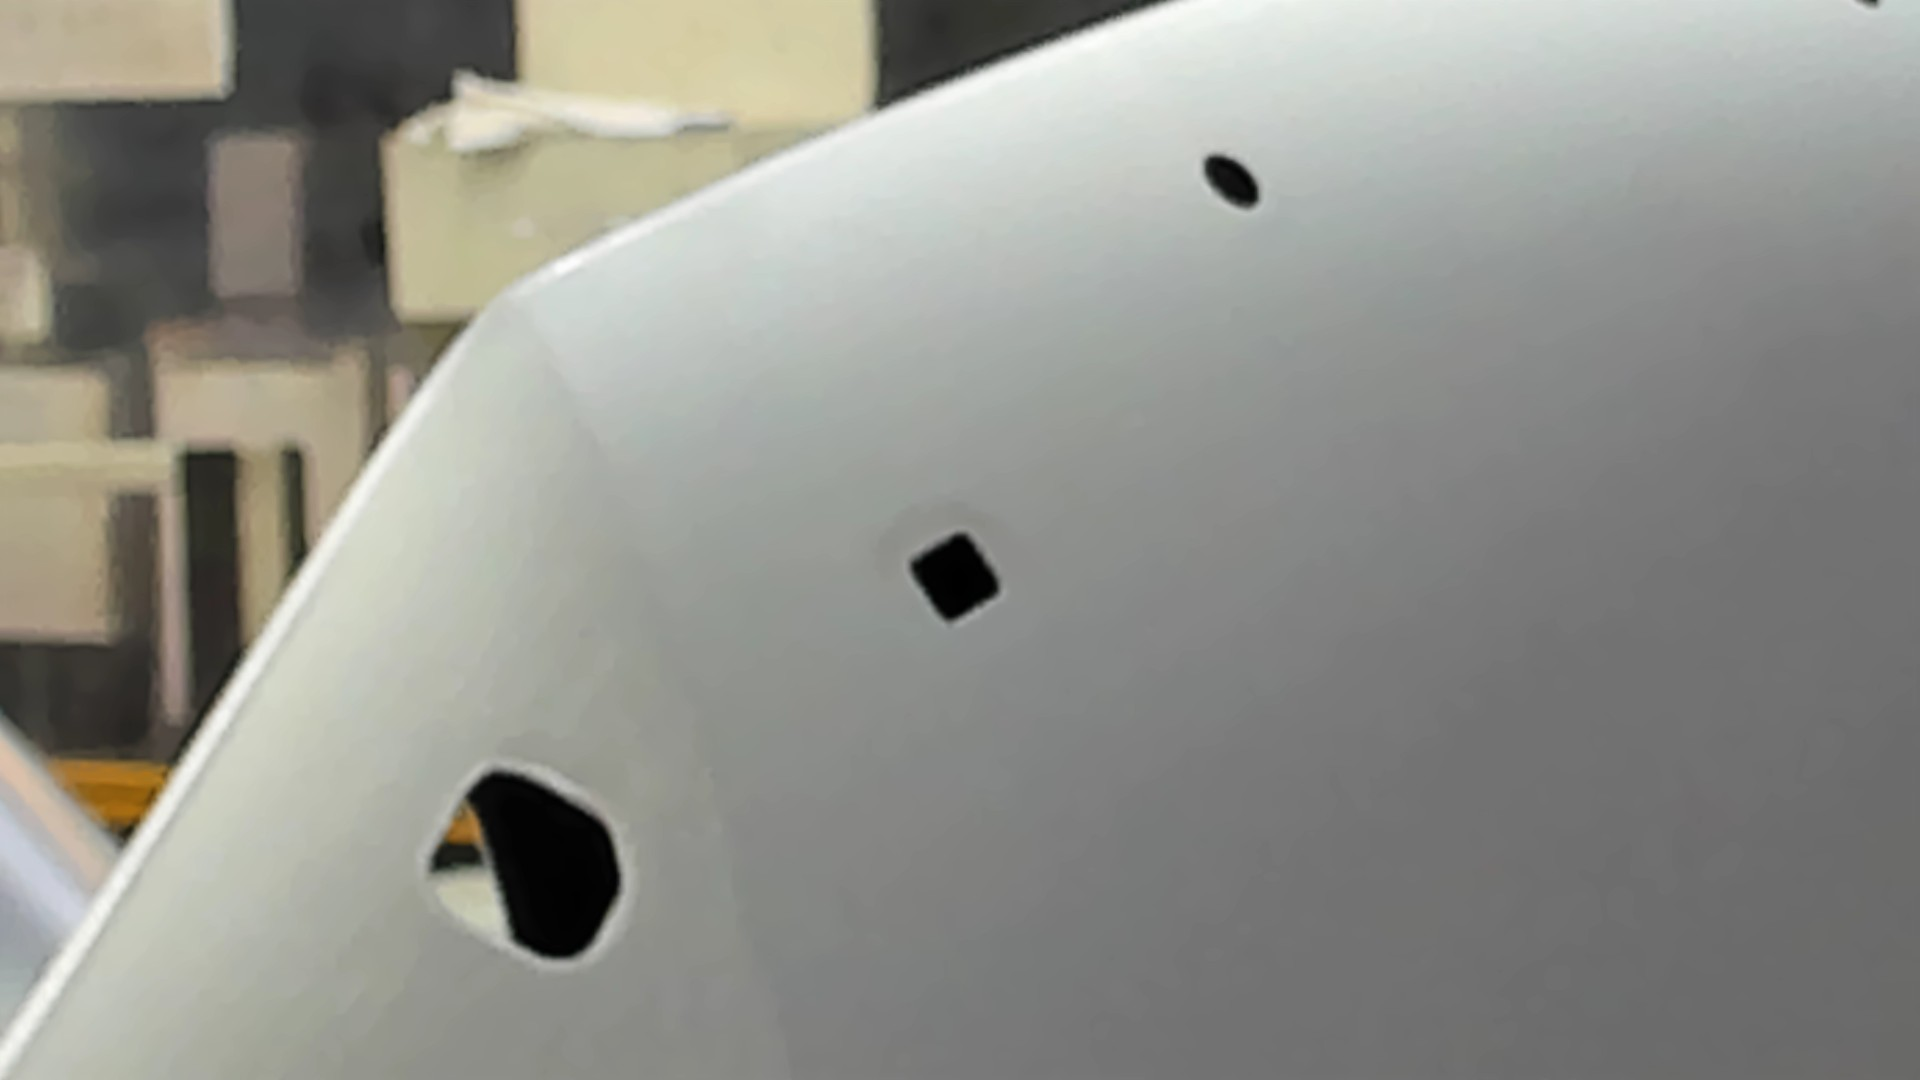chico: (1201, 150, 1266, 215)
grande: (415, 753, 638, 975)
mediano: (905, 524, 1004, 632)
